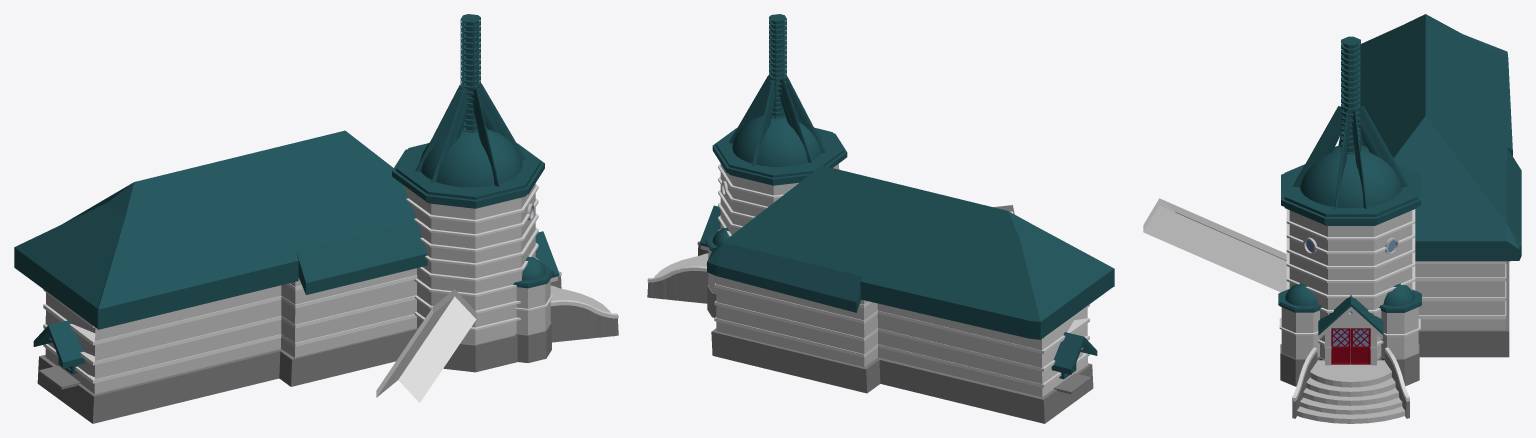
File: hukiyakouji.glb
The picture shows the model from 3 angles, left to right: view 1: azimuth 30°, elevation 25°; view 2: azimuth 150°, elevation 25°; view 3: azimuth 270°, elevation 25°; orthographic projection. The views are drawn at different scales.
Parts seen in each view (by area): view 1: 立方体.003, 立方体.002, 平面.006, 平面.002, 立方体.001; view 2: 立方体.003, 立方体.002, 平面.006, 平面.002; view 3: 立方体.003, 立方体.002, 立方体.001, 平面.002, 平面.006, 円柱, 平面.001.
Boxes of the visible parts, x1,y1,x2,y2 form: 立方体.003: [14, 14, 559, 374]; 立方体.002: [45, 183, 610, 394]; 平面.006: [37, 276, 618, 423]; 平面.002: [43, 184, 618, 383]; 立方体.001: [376, 289, 476, 402]; 立方体.003: [699, 14, 1114, 379]; 立方体.002: [654, 163, 1087, 397]; 平面.006: [647, 245, 1093, 423]; 平面.002: [647, 164, 1089, 387]; 立方体.003: [1278, 14, 1521, 335]; 立方体.002: [1281, 210, 1505, 423]; 立方体.001: [1143, 198, 1286, 292]; 平面.002: [1279, 209, 1506, 401]; 平面.006: [1280, 261, 1509, 418]; 円柱: [1331, 328, 1370, 364]; 平面.001: [1306, 240, 1395, 346].
Bounding box in the file's own units: 67.22 × 40.28 × 43.11.
Materials: 6 (6 with a texture image).
